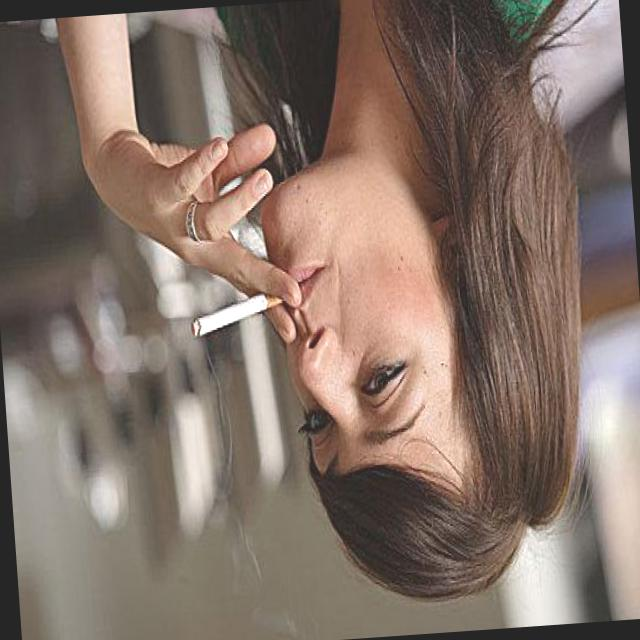smoke: (186, 285, 292, 347)
